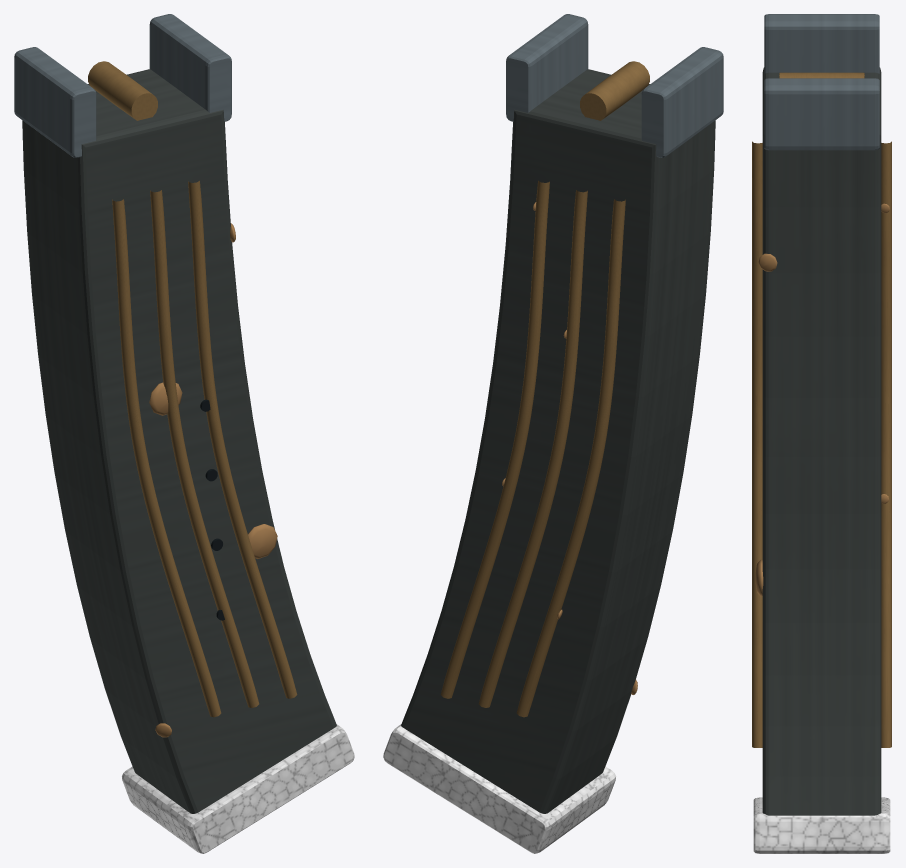
The picture shows the model from 3 angles, left to right: view 1: azimuth 30°, elevation 25°; view 2: azimuth 150°, elevation 25°; view 3: azimuth 270°, elevation 25°; orthographic projection. The views are drawn at different scales.
Parts seen in each view (by area): view 1: machined receiver, edge hardware, brushed steel, vulcanized grip, peened pin; view 2: machined receiver, edge hardware, brushed steel, vulcanized grip; view 3: machined receiver, brushed steel, edge hardware, vulcanized grip, peened pin.
Part boxes in pixels (<box>): machined receiver: <box>22,69,336,813</box>; edge hardware: <box>88,61,297,717</box>; brushed steel: <box>14,14,231,157</box>; vulcanized grip: <box>122,724,354,853</box>; peened pin: <box>149,223,277,737</box>; machined receiver: <box>401,69,715,813</box>; edge hardware: <box>440,61,649,717</box>; brushed steel: <box>506,14,723,157</box>; vulcanized grip: <box>383,724,615,853</box>; machined receiver: <box>762,67,881,815</box>; brushed steel: <box>764,14,879,150</box>; edge hardware: <box>752,72,891,747</box>; vulcanized grip: <box>753,797,890,853</box>; peened pin: <box>755,253,777,596</box>.
Bounding box in the file's own units: 0.1027 × 0.2778 × 0.046.
6 materials, 4 textured.
